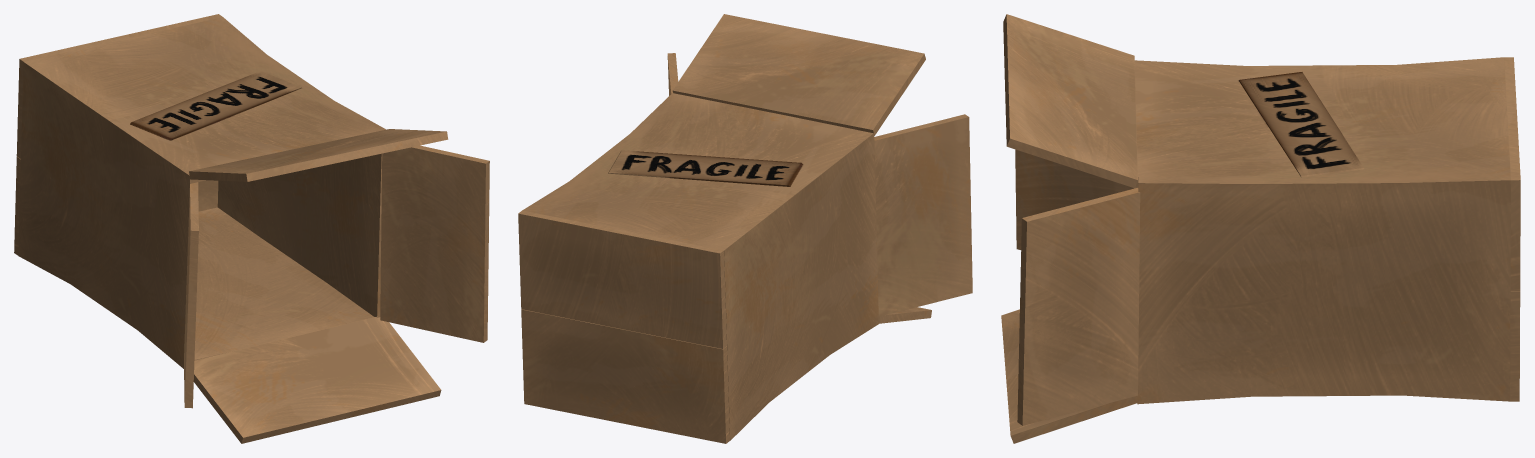
The model's file is SM_Carton2Appear.fbx.
The picture shows the model from 3 angles, left to right: view 1: azimuth 30°, elevation 25°; view 2: azimuth 150°, elevation 25°; view 3: azimuth 270°, elevation 25°; orthographic projection. The views are drawn at different scales.
Visible parts, largest first — view 1: pCube30; view 2: pCube30; view 3: pCube30.
Part boxes in pixels (<box>): pCube30: <box>14,14,489,443</box>; pCube30: <box>518,14,972,443</box>; pCube30: <box>1001,14,1520,443</box>.
Bounding box in the file's own units: 294 × 249 × 369.
